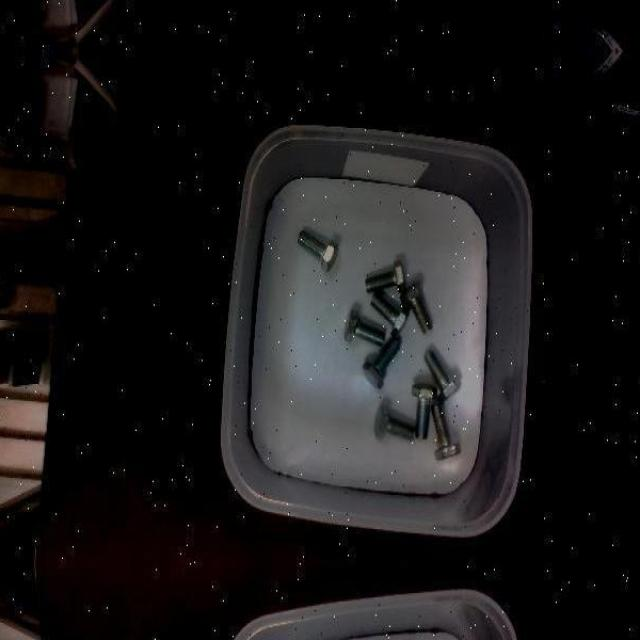screw: (422, 348, 461, 402), (362, 337, 400, 388), (370, 291, 410, 338), (399, 280, 433, 334), (431, 402, 462, 459), (297, 229, 337, 272), (344, 308, 385, 347), (373, 402, 414, 441), (411, 383, 436, 440), (364, 259, 404, 292)
